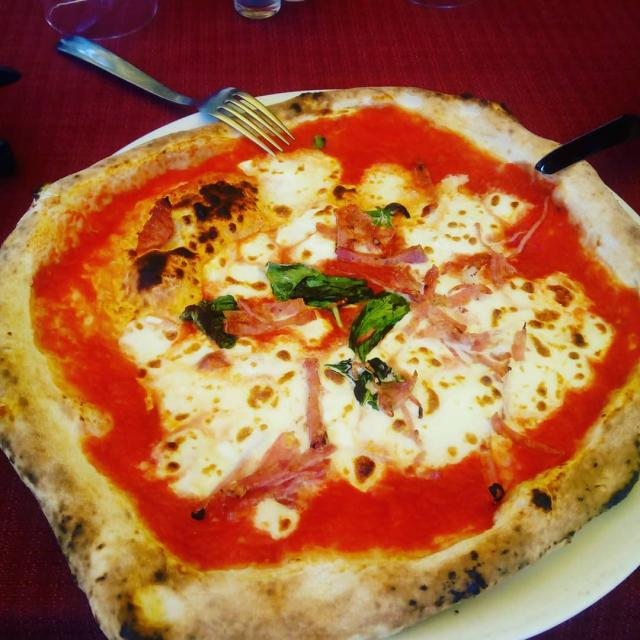basil: (267, 262, 374, 309), (349, 292, 410, 362), (326, 358, 404, 408), (180, 295, 239, 348), (365, 202, 410, 227)
pizza: (0, 87, 640, 640)
